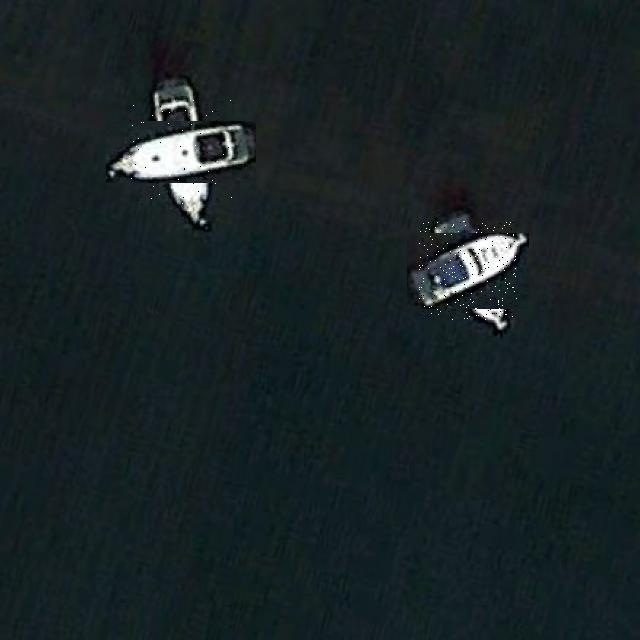boat: (128, 99, 234, 206), (419, 221, 518, 320)
